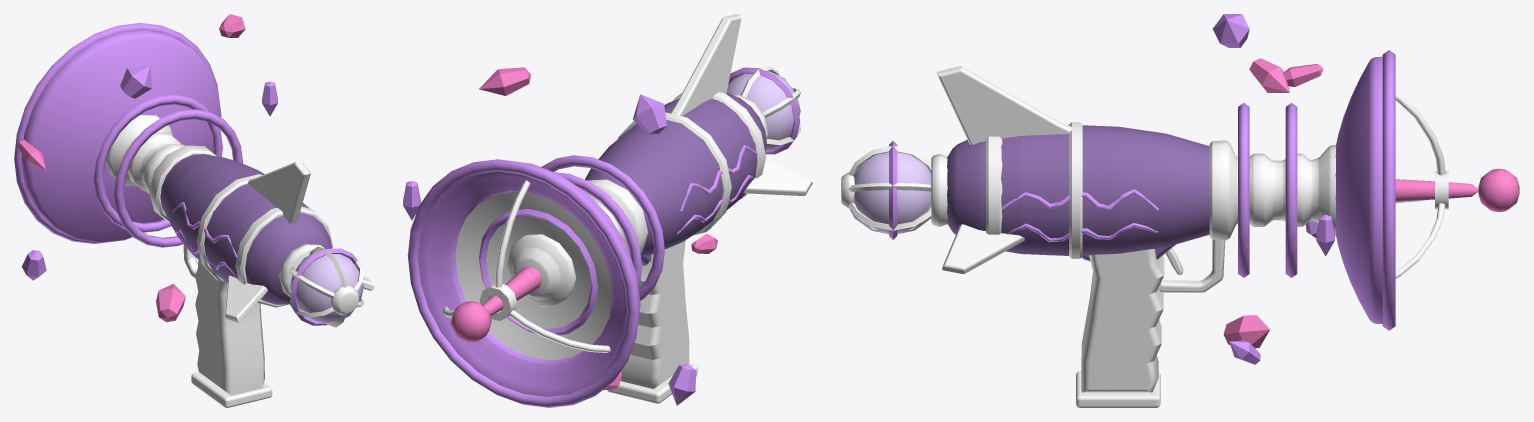
The model's file is ChaosRay.glb.
3 views of the same model, side by side, from view 1: azimuth 30°, elevation 25°; view 2: azimuth 150°, elevation 25°; view 3: azimuth 270°, elevation 25° (orthographic). The views are drawn at different scales.
Visible parts, largest first — view 1: Dish, Base, Accent, Primary, Glass, AccentPink; view 2: Base, Accent, Dish, Primary, AccentPink, Glass; view 3: Base, Primary, Accent, Dish, AccentPink, Glass.
Part boxes in pixels (x1,y1,x2,y2): Dish: (21, 29, 221, 242); Base: (106, 115, 374, 407); Accent: (14, 23, 363, 325); Primary: (160, 154, 331, 304); Glass: (290, 251, 363, 323); AccentPink: (17, 14, 245, 322); Base: (442, 14, 812, 403); Accent: (403, 67, 800, 407); Dish: (418, 162, 640, 396); Primary: (585, 93, 766, 265); AccentPink: (450, 67, 717, 390); Glass: (726, 71, 800, 151); Base: (841, 65, 1448, 407); Primary: (947, 124, 1209, 261); Accent: (889, 14, 1395, 364); Dish: (1335, 56, 1382, 323); AccentPink: (1223, 58, 1519, 348); Glass: (853, 152, 931, 233).
Size of the model in its own units: 2.65 by 2.97 by 4.97.
